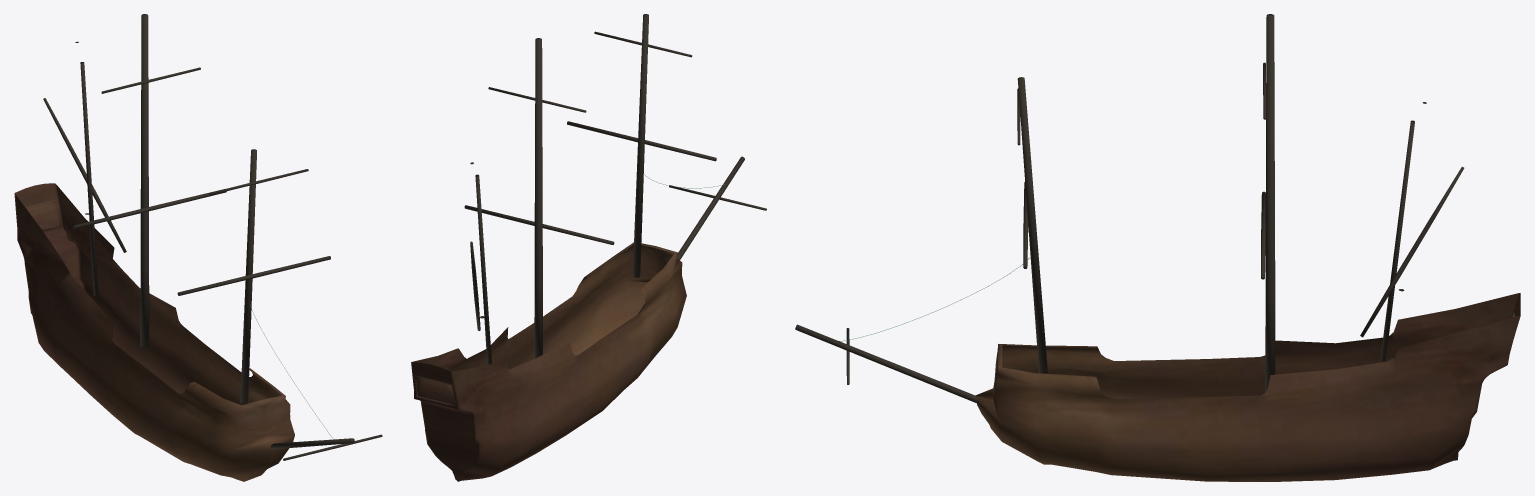
Rendered from modele.glb.
The picture shows the model from 3 angles, left to right: view 1: azimuth 30°, elevation 25°; view 2: azimuth 150°, elevation 25°; view 3: azimuth 270°, elevation 25°; orthographic projection. The views are drawn at different scales.
Visible parts, largest first — view 1: Plane, Cylinder.001, Cylinder, Cylinder.006, Cylinder.004, Cylinder.003, Cylinder.002; view 2: Plane, Cylinder.001, Cylinder, Cylinder.002, Cylinder.006, Cylinder.004, Cylinder.003; view 3: Plane, Cylinder.001, Cylinder, Cylinder.002, Cylinder.003.
Boxes of the visible parts, x1,y1,x2,y2 form: Plane: (14, 183, 294, 481); Cylinder.001: (75, 41, 256, 403); Cylinder: (140, 14, 149, 347); Cylinder.006: (177, 256, 330, 295); Cylinder.004: (73, 189, 226, 228); Cylinder.003: (43, 98, 126, 252); Cylinder.002: (270, 438, 354, 449); Plane: (411, 242, 686, 481); Cylinder.001: (470, 14, 648, 364); Cylinder: (534, 38, 542, 358); Cylinder.002: (638, 156, 744, 313); Cylinder.006: (567, 121, 716, 161); Cylinder.004: (464, 205, 614, 244); Cylinder.003: (470, 241, 480, 330); Plane: (975, 293, 1520, 481); Cylinder.001: (1017, 77, 1426, 373); Cylinder: (1265, 14, 1275, 391); Cylinder.002: (795, 324, 978, 403); Cylinder.003: (1360, 166, 1464, 337).
Size of the model in its own units: 19.26 by 48.73 by 70.21.
Materials: 3 (1 with a texture image).
